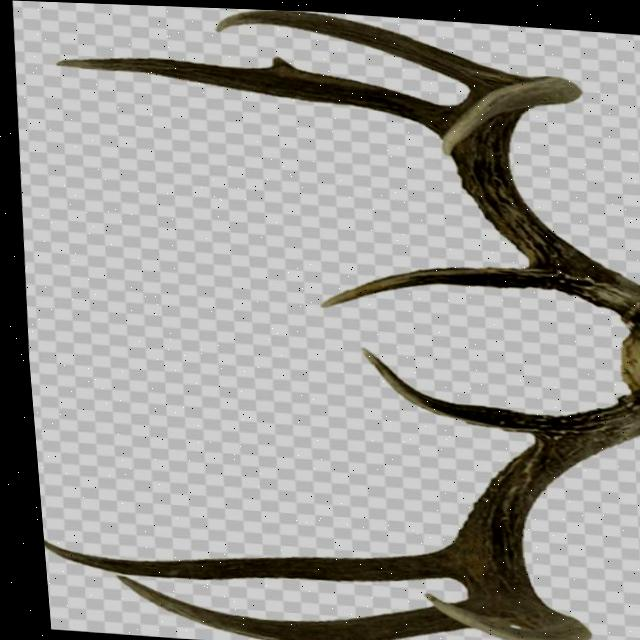E1: (264, 53, 305, 69)
L-F: (413, 388, 640, 640)
L-G1: (353, 344, 550, 433)
L-G2: (35, 540, 441, 578)
R-F: (438, 71, 640, 318)
R-G1: (312, 262, 550, 306)
R-G2: (53, 56, 448, 129)
R-G3: (213, 8, 507, 84)
